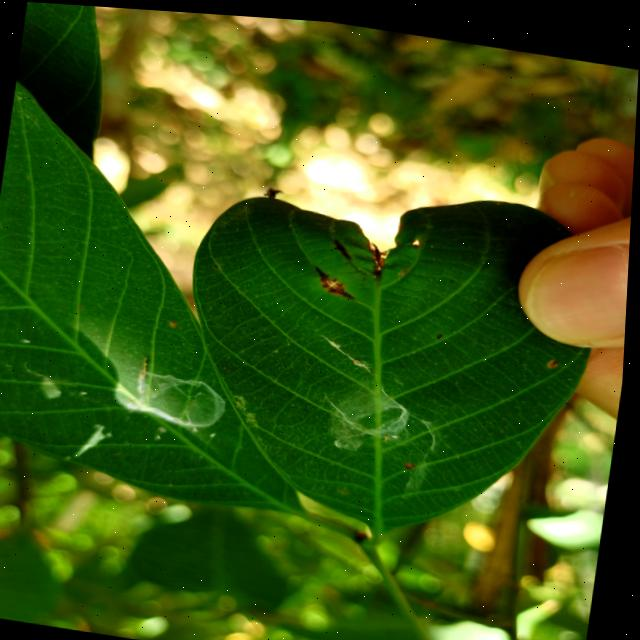Colletotrichum: (439, 327, 446, 333)
Corynespora: (314, 261, 362, 295), (332, 234, 357, 256)
